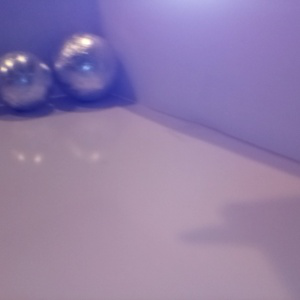alive_ball: (53, 31, 120, 103), (1, 49, 54, 111)
